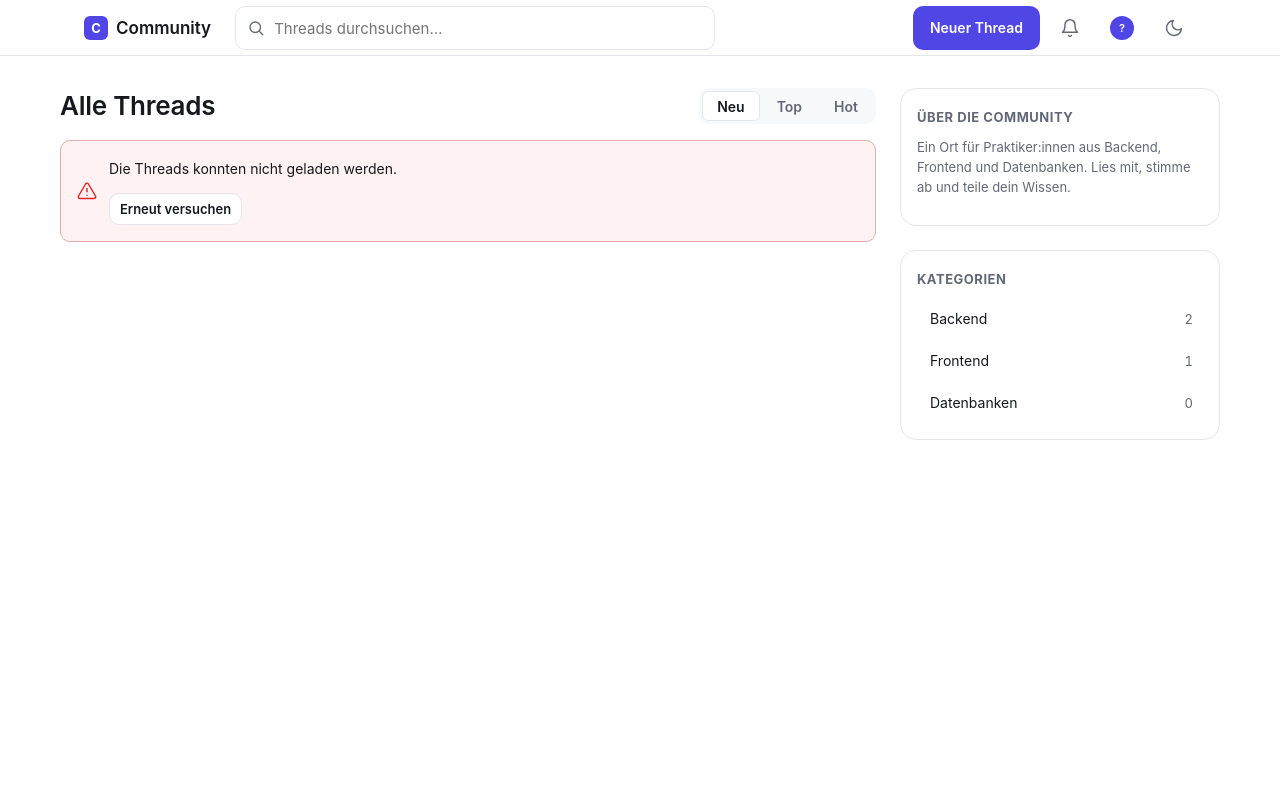
forum home page › renders the kit error state and retries the request
Expected: the text "Die Threads konnten nicht geladen werden." is shown, top-left (109, 160), bottom-right (397, 177)
Click the button "Erneut versuchen" at (176, 209), box top-left (109, 193), bottom-right (242, 225)
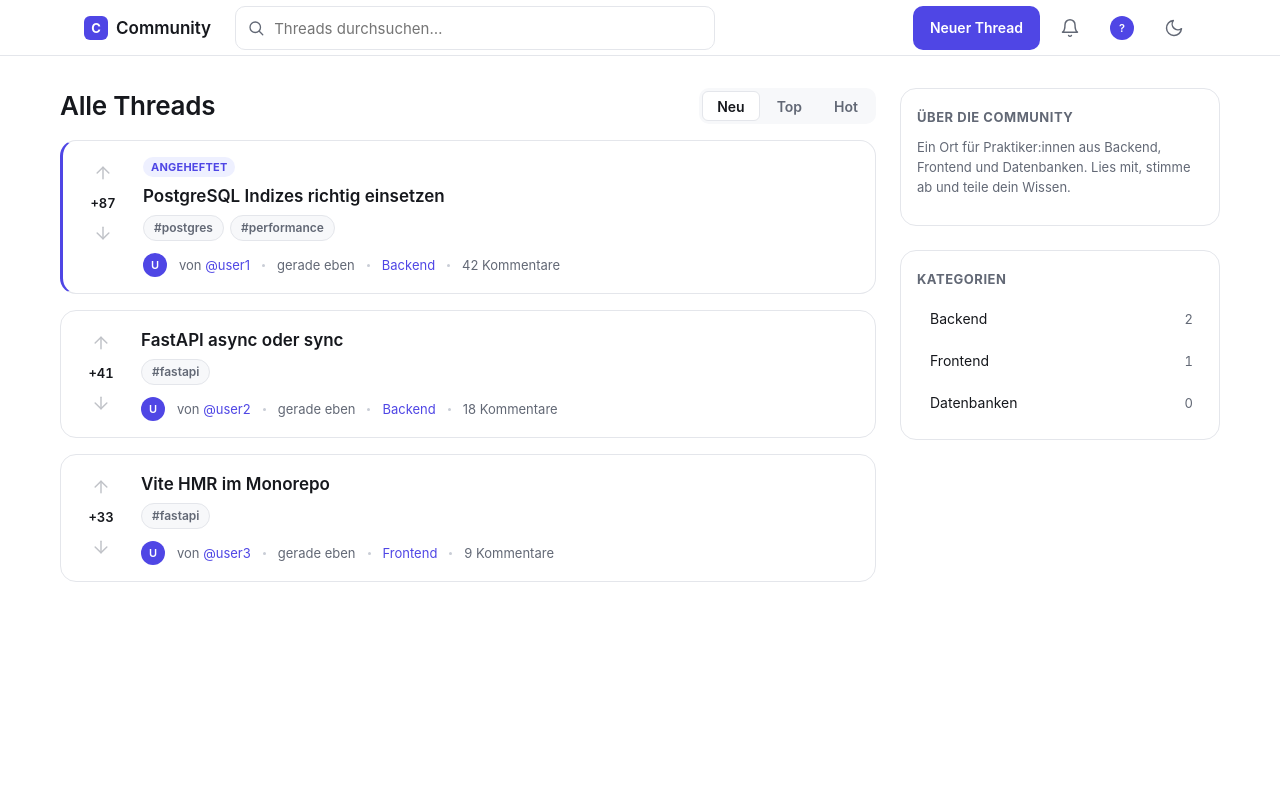
Now the link "PostgreSQL Indizes richtig einsetzen" is shown, box top-left (143, 186), bottom-right (445, 206)
